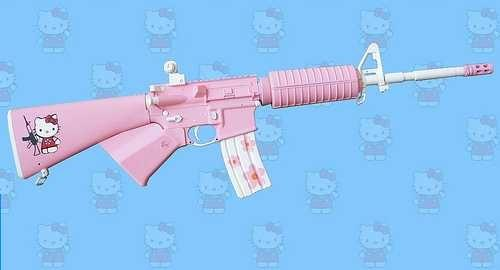heavyweapon: (5, 33, 496, 219)
